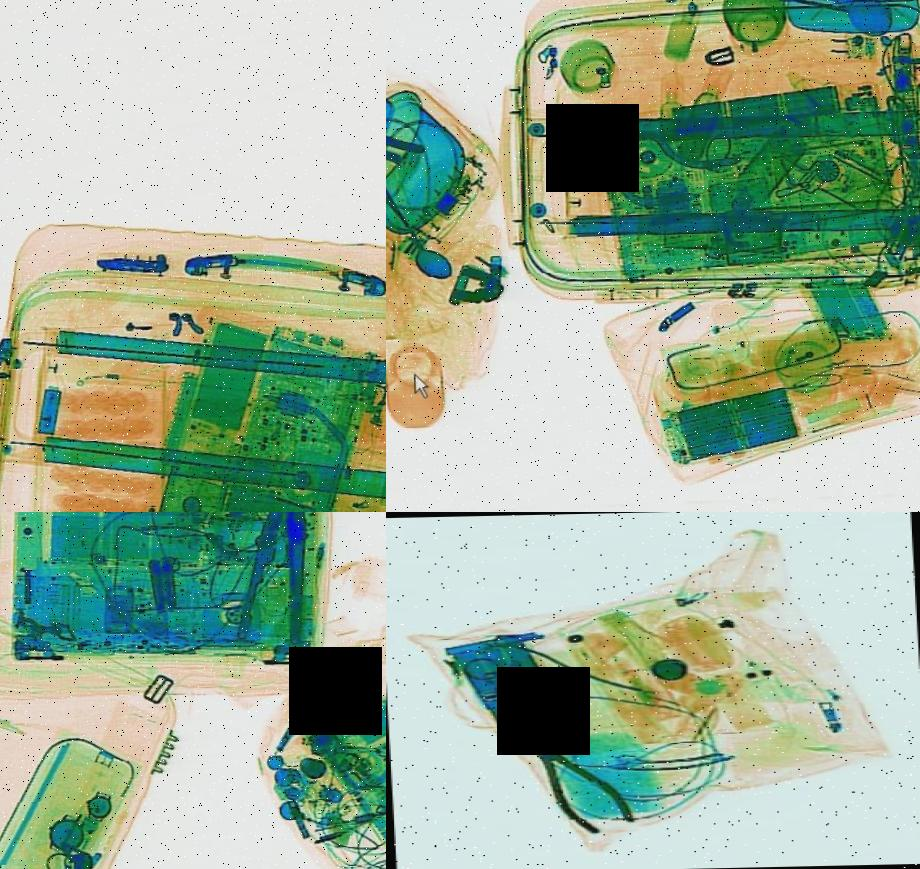Pliers: (489, 715, 642, 839), (228, 512, 324, 644), (386, 104, 427, 172)
